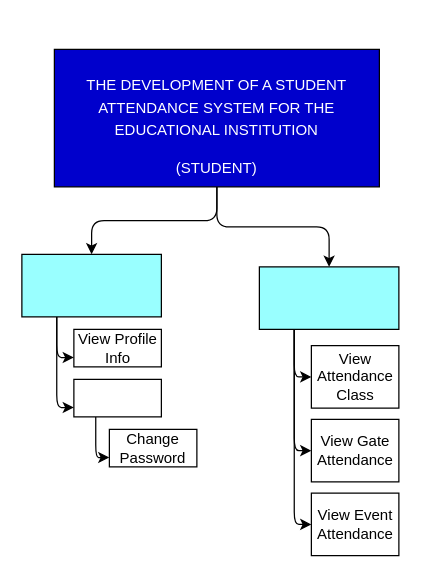
The diagram is 421 pixels wide and 578 high, and some of its shapes have lost their labels. The shapes that lost their labels are listed below. From the top down, each one's centre as x and y in pixels, then its label:
point 91,285: PROFILE
point 328,297: ATTENDANCE
point 117,397: View Account
